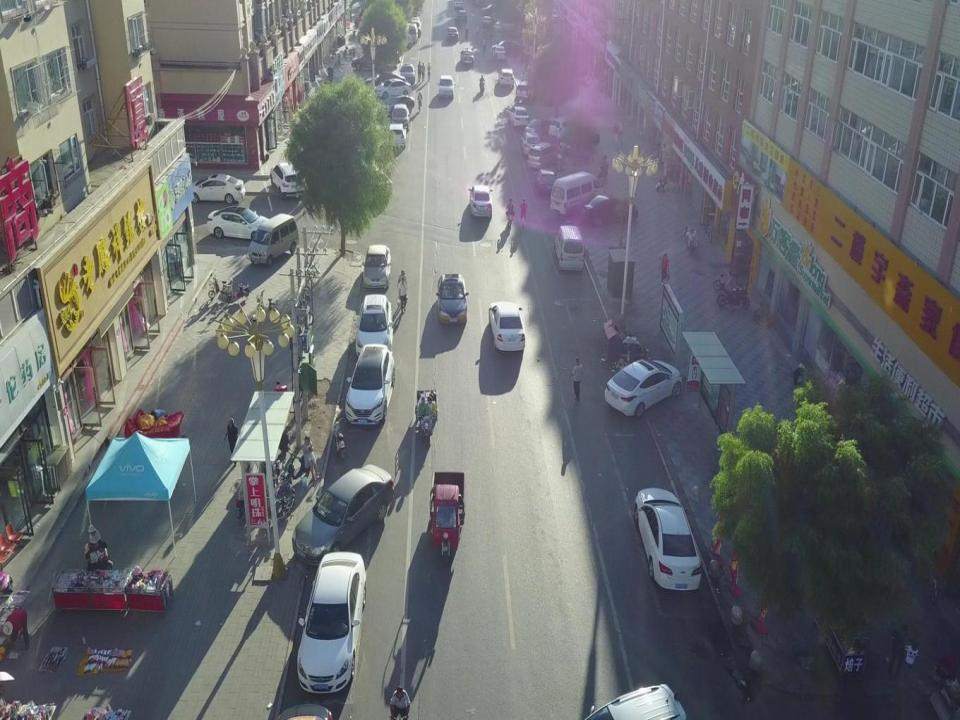car: (292, 462, 396, 565), (297, 548, 367, 694), (633, 485, 708, 594), (603, 357, 684, 418), (579, 681, 692, 720), (344, 344, 396, 426), (205, 203, 274, 240), (355, 294, 393, 354), (551, 172, 604, 215), (489, 300, 526, 352), (186, 172, 246, 204), (583, 194, 638, 226), (437, 272, 468, 325), (553, 223, 583, 269), (362, 244, 390, 289), (270, 162, 306, 197), (365, 72, 407, 95), (527, 140, 561, 168), (469, 184, 492, 220), (548, 114, 576, 140), (375, 78, 410, 97), (378, 95, 414, 112), (520, 129, 542, 156), (536, 167, 557, 194), (392, 23, 419, 42), (386, 123, 406, 148), (508, 106, 530, 128), (524, 116, 548, 136), (438, 75, 454, 100), (392, 103, 410, 125), (480, 4, 510, 17), (498, 40, 525, 54), (498, 66, 514, 86), (400, 62, 416, 82), (496, 18, 518, 32), (516, 81, 532, 100), (393, 33, 413, 48), (460, 49, 474, 68), (490, 44, 504, 58), (446, 28, 460, 42), (455, 10, 467, 22), (481, 16, 493, 27)
van: (246, 212, 301, 269)
